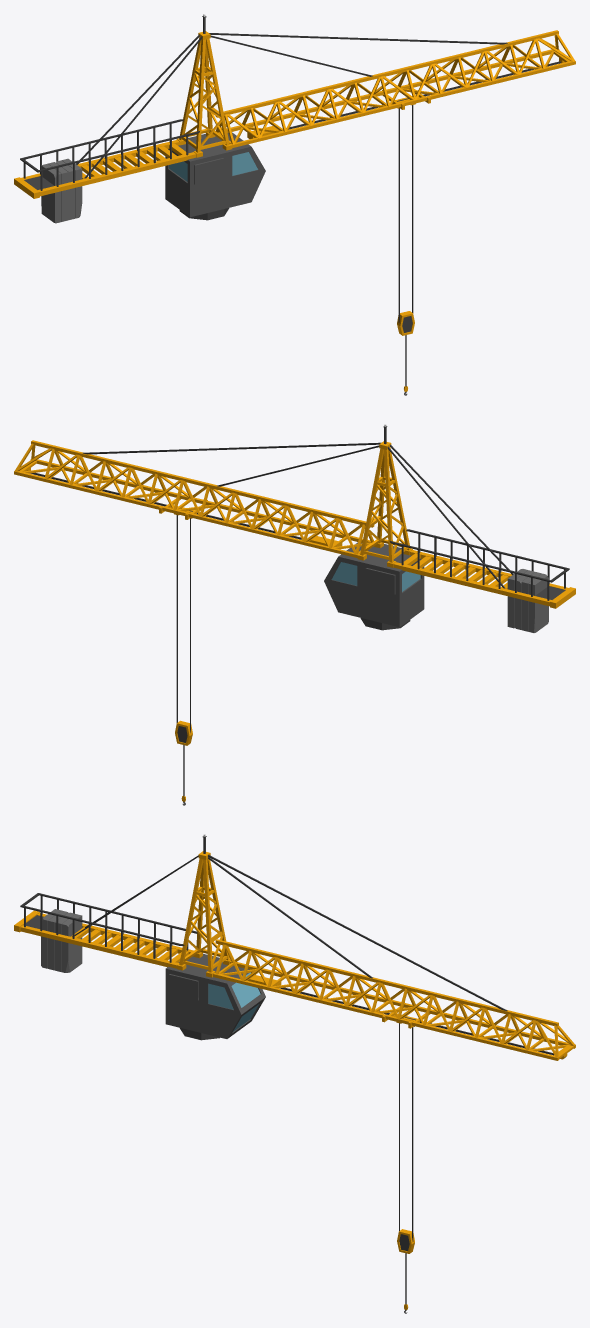
File: SM_IndustrialProps_TowerCrane_01-2.fbx
The picture shows the model from 3 angles, top to bottom: view 1: azimuth 30°, elevation 25°; view 2: azimuth 150°, elevation 25°; view 3: azimuth 330°, elevation 25°; orthographic projection.
Visible parts, largest first — view 1: SM_IndustrialProps_TowerCrane_01-2; view 2: SM_IndustrialProps_TowerCrane_01-2; view 3: SM_IndustrialProps_TowerCrane_01-2.
Part boxes in pixels (box(x1,y1,x2,y2)): SM_IndustrialProps_TowerCrane_01-2: box(14, 14, 575, 395); SM_IndustrialProps_TowerCrane_01-2: box(14, 424, 575, 805); SM_IndustrialProps_TowerCrane_01-2: box(14, 834, 575, 1313).
Bounding box in the file's own units: 20.38 × 15.43 × 1.72.
